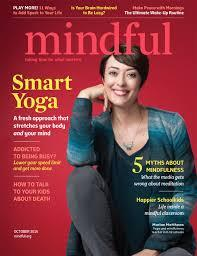Printing industry: (0, 1, 197, 256)
